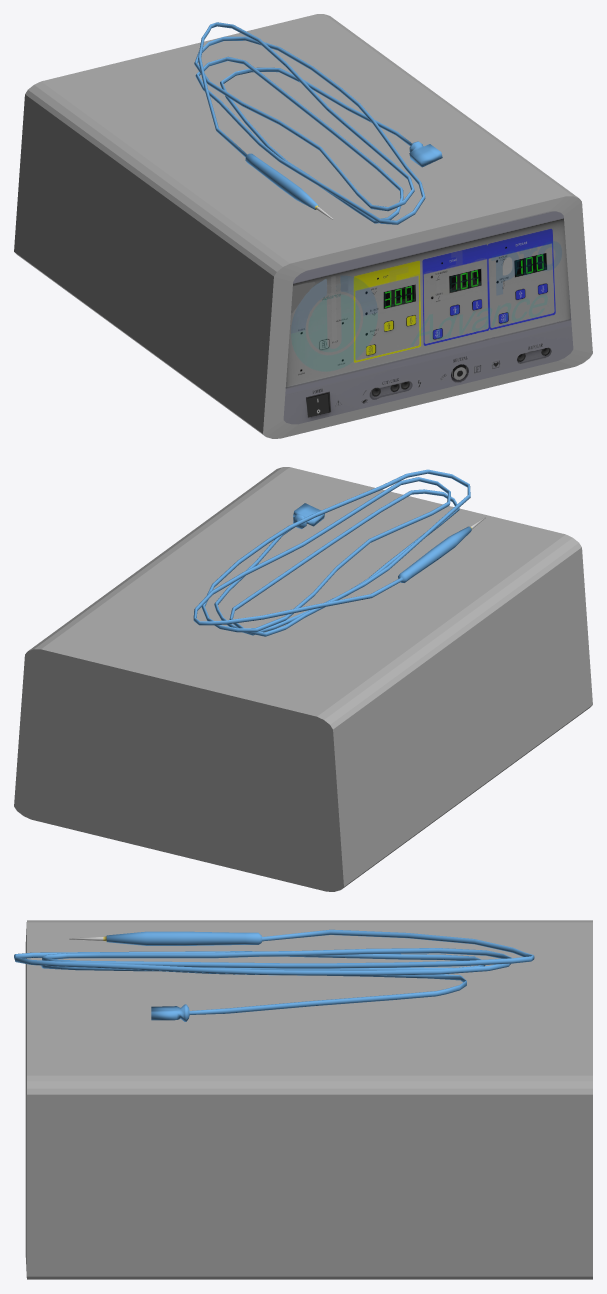
Rendered from BMB05.fbx.
3 views of the same model, one above another, from view 1: azimuth 30°, elevation 25°; view 2: azimuth 150°, elevation 25°; view 3: azimuth 270°, elevation 25° (orthographic). The views are drawn at different scales.
Parts seen in each view (by area): view 1: BMB05; view 2: BMB05; view 3: BMB05.
Boxes of the visible parts, left/top/right/bottom form: BMB05: left=14, top=14, right=592, bottom=438; BMB05: left=14, top=467, right=592, bottom=891; BMB05: left=14, top=920, right=592, bottom=1279.
Bounding box in the file's own units: 20 × 13.22 × 26.73.
6 materials, 1 textured.
